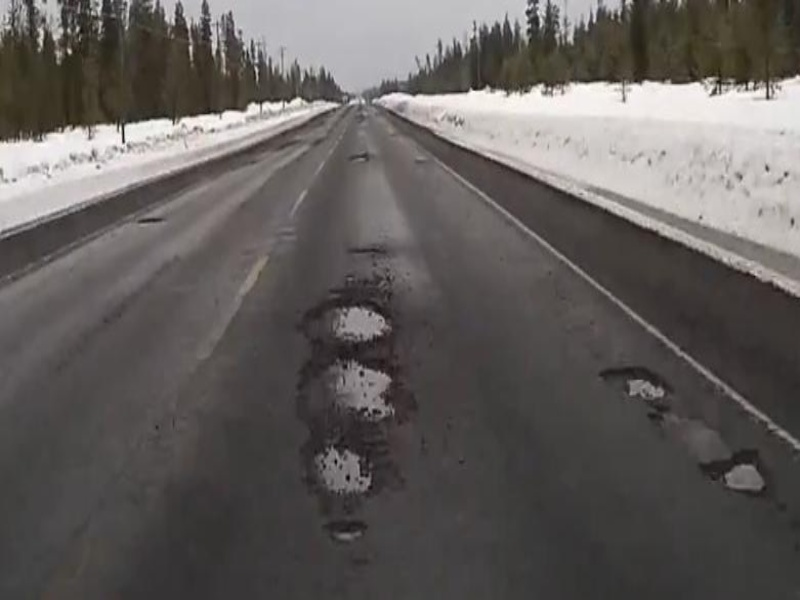pothole: (293, 354, 401, 433), (296, 295, 397, 353), (298, 438, 379, 507), (696, 446, 773, 505), (598, 362, 676, 404), (323, 517, 373, 547)
